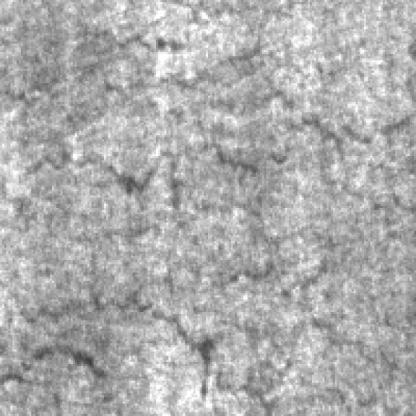crazing: (0, 92, 412, 248), (222, 256, 394, 416), (0, 295, 214, 405)
